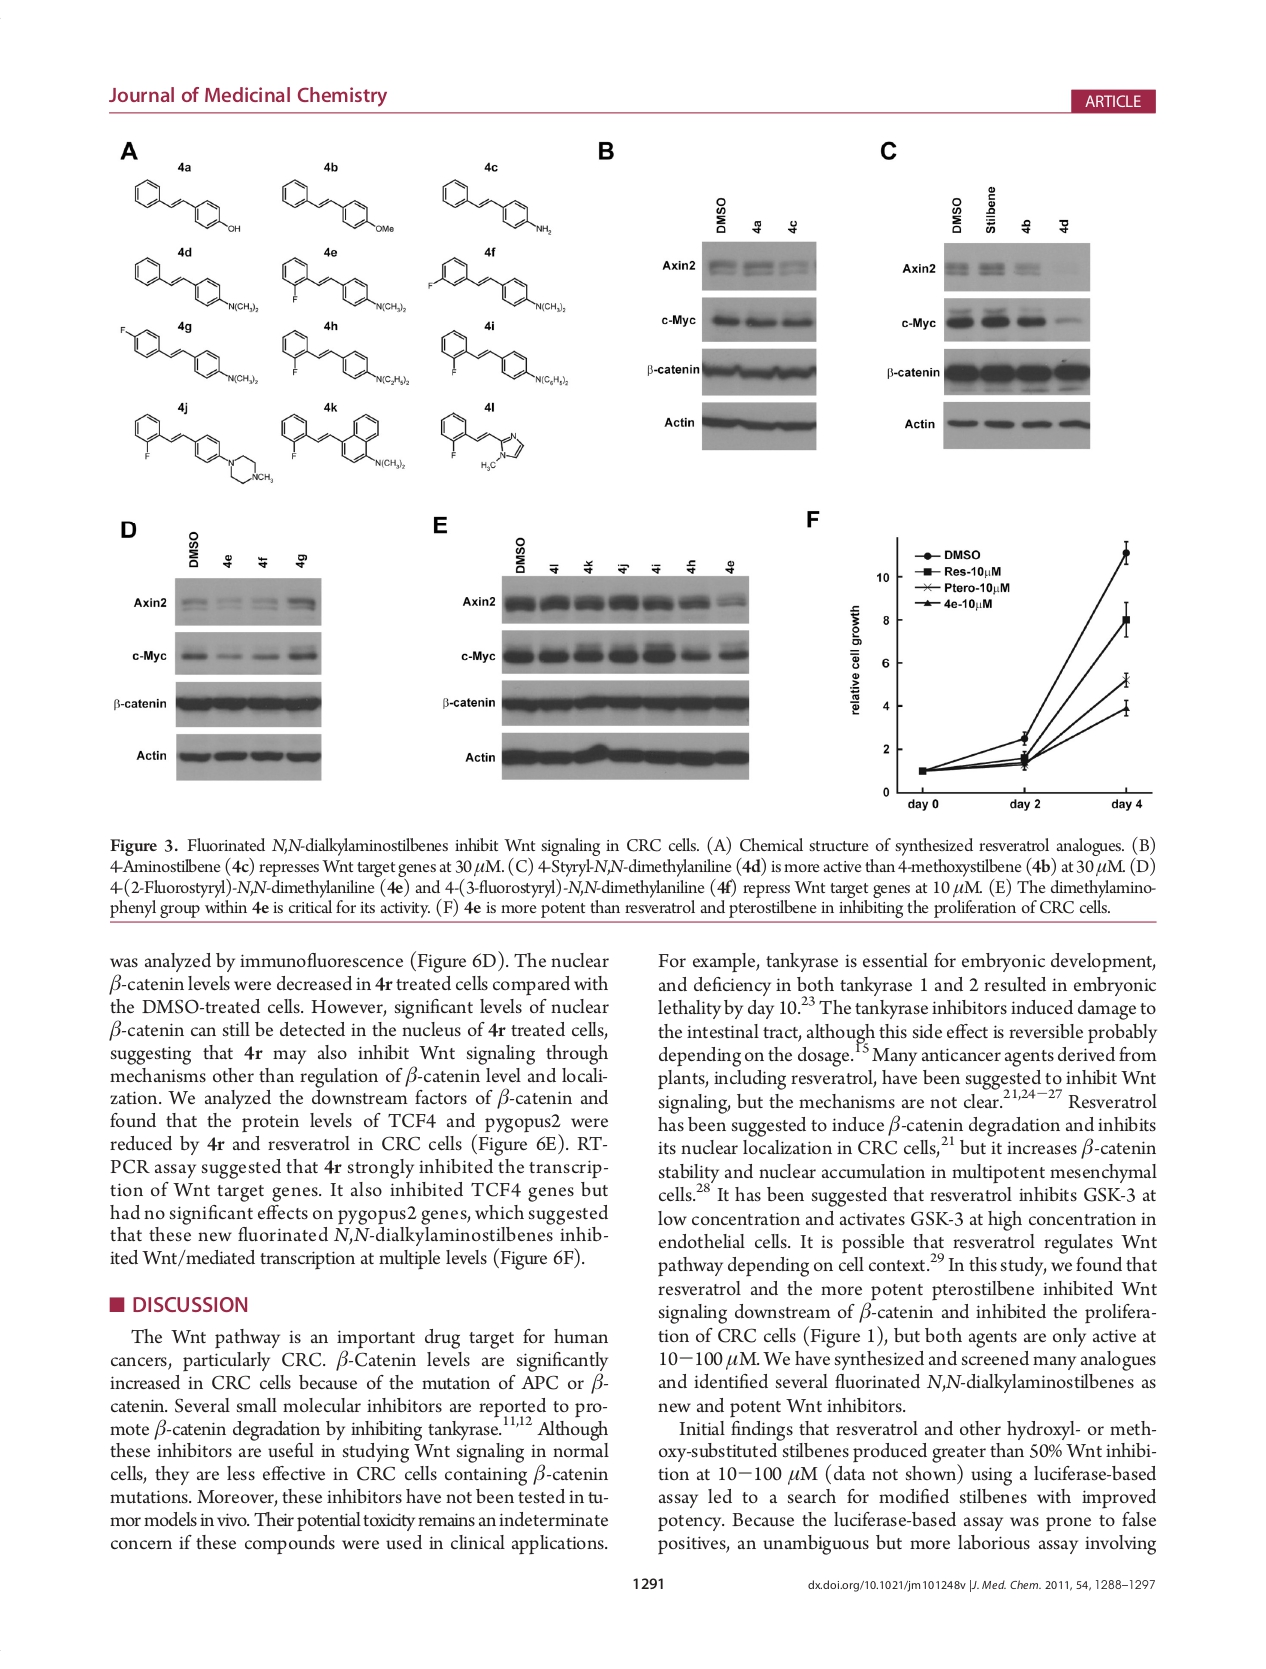exist_molecular: (132, 410, 277, 488), (117, 324, 261, 384), (426, 254, 567, 314), (438, 326, 572, 386), (278, 254, 408, 314), (277, 411, 410, 469), (132, 254, 261, 314), (278, 328, 411, 386), (281, 176, 400, 233), (440, 174, 555, 234), (132, 176, 243, 235), (438, 408, 527, 473)
